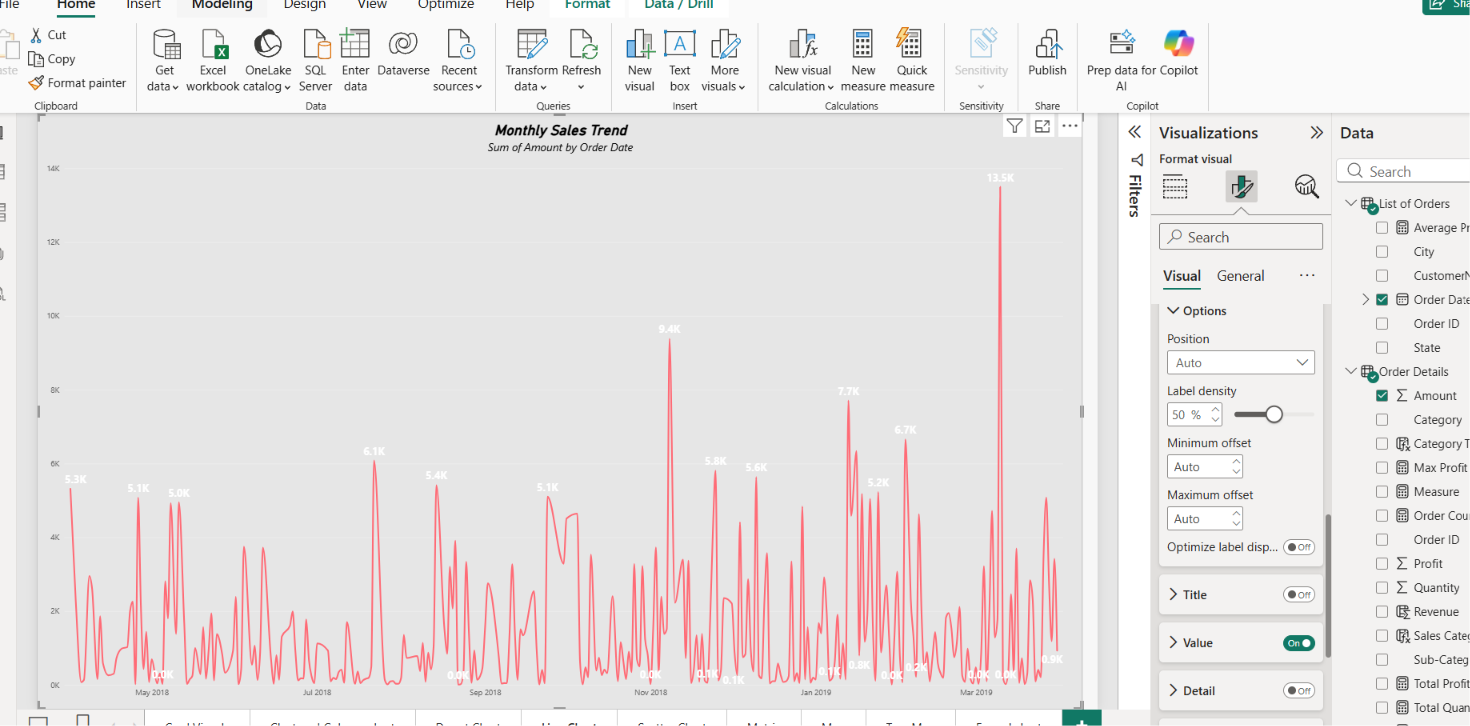

What the dashboard file says about the page in this screenshot:
{"tool":"powerbi","page":{"name":"Line Chart","canvas":[1920,1080],"ordinal":3},"visuals":[{"type":"lineChart","title":"Monthly Sales Trend","fields":{"Category":["List of Orders.Order Date"],"Y":["Sum(Order Details.Amount)"]},"box":[0,0,1893.7,1080.6],"z":0}]}

Visuals, with their boxes on the page's 1920x1080 design canvas (x1, y1, x2, y2). These are canvas units, not pixel positions in the 1470x726 screenshot, which may show the page scaled, cropped or inside an application window:
"Monthly Sales Trend" lineChart: box=[0, 0, 1894, 1081]
